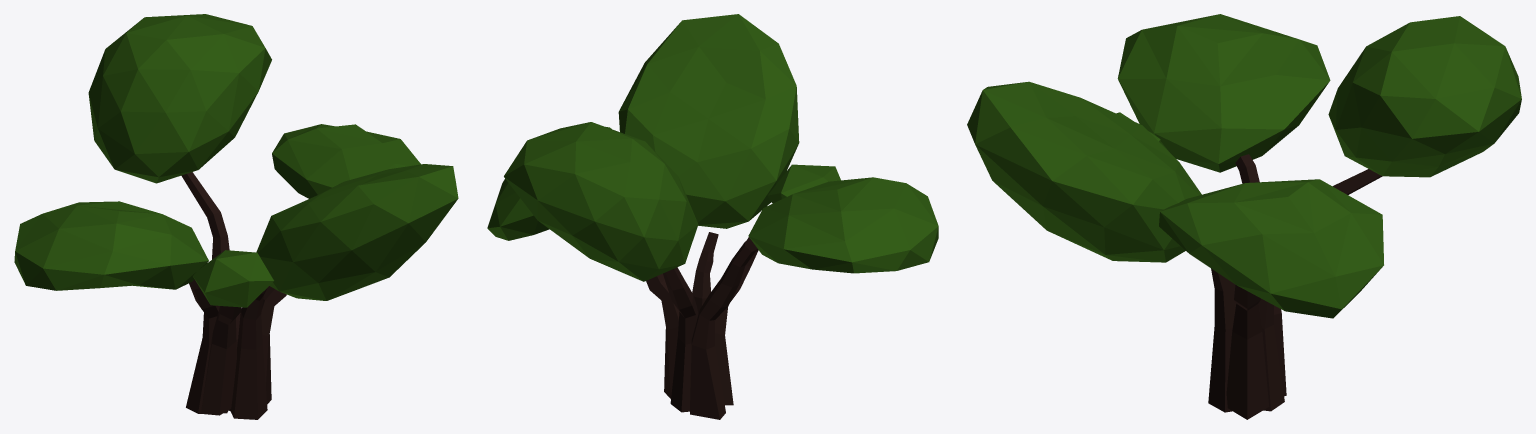
Rendered from SM_tree_olive_02.FBX.
3 renders of one model, left to right at view 1: azimuth 30°, elevation 25°; view 2: azimuth 150°, elevation 25°; view 3: azimuth 270°, elevation 25°, orthographic. The views are drawn at different scales.
Parts seen in each view (by area): view 1: Object042; view 2: Object042; view 3: Object042.
Part boxes in pixels (x1,y1,x2,y2): Object042: (14, 14, 458, 419); Object042: (487, 14, 938, 419); Object042: (967, 14, 1521, 419).
Bounding box in the file's own units: 708 × 524 × 695.
